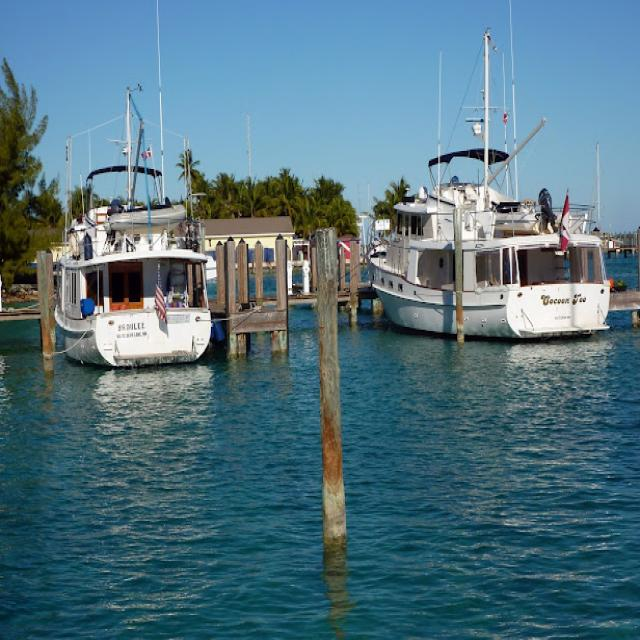houseboat: (370, 169, 613, 340), (51, 144, 210, 365)
